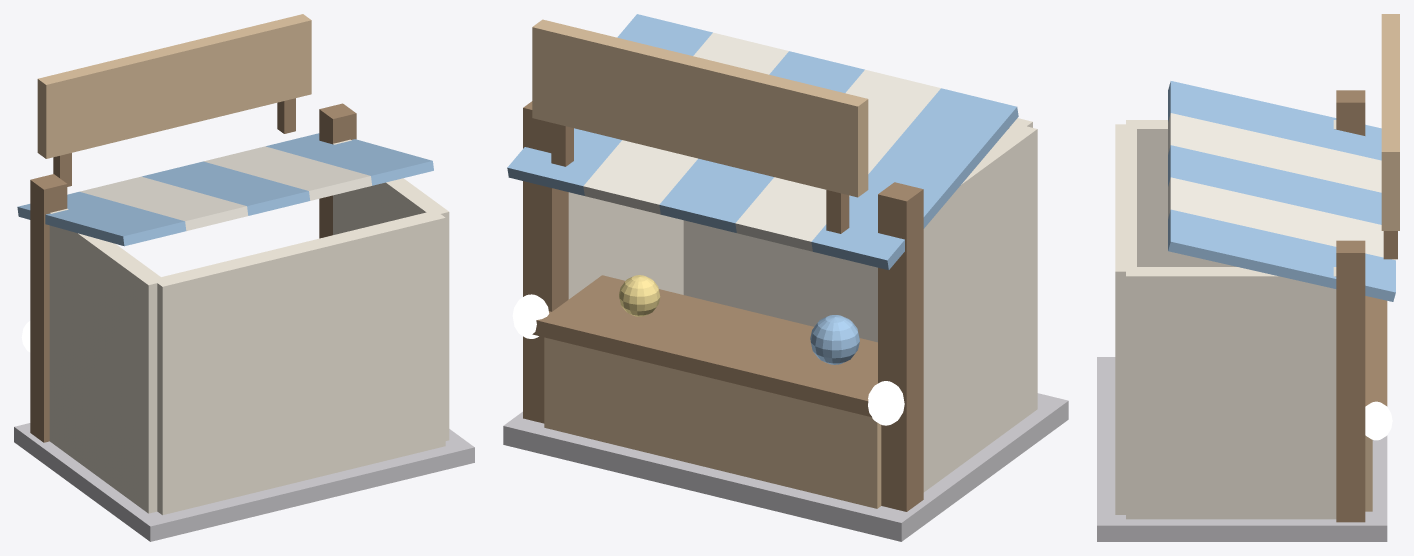
File: ShopStall.glb
3 renders of one model, left to right at view 1: azimuth 30°, elevation 25°; view 2: azimuth 150°, elevation 25°; view 3: azimuth 270°, elevation 25°, orthographic. The views are drawn at different scales.
Parts seen in each view (by area): view 1: ShopStall_6, ShopStall_3, ShopStall_0, ShopStall_2, ShopStall_1, ShopStall_7; view 2: ShopStall_3, ShopStall_6, ShopStall_1, ShopStall_0, ShopStall_2, ShopStall_7, ShopStall_5, ShopStall_4; view 3: ShopStall_6, ShopStall_0, ShopStall_7, ShopStall_1, ShopStall_2, ShopStall_3, ShopStall_5.
Boxes of the visible parts, box(x1,y1,x2,y2) form: ShopStall_6: box(49, 139, 449, 515); ShopStall_3: box(37, 14, 311, 158); ShopStall_0: box(17, 133, 433, 246); ShopStall_2: box(14, 423, 474, 541); ShopStall_1: box(30, 98, 356, 442); ShopStall_7: box(80, 146, 371, 230); ShopStall_3: box(532, 19, 881, 508); ShopStall_6: box(568, 118, 1037, 492); ShopStall_1: box(523, 101, 923, 511); ShopStall_0: box(507, 14, 1018, 364); ShopStall_2: box(503, 393, 1068, 541); ShopStall_7: box(583, 32, 940, 251); ShopStall_5: box(512, 294, 904, 425); ShopStall_4: box(619, 275, 660, 316); ShopStall_6: box(1115, 120, 1336, 519); ShopStall_0: box(1168, 81, 1395, 301); ShopStall_7: box(1168, 113, 1395, 260); ShopStall_1: box(1336, 90, 1397, 522); ShopStall_2: box(1097, 357, 1387, 541); ShopStall_3: box(1365, 14, 1399, 511); ShopStall_5: box(1365, 401, 1392, 440).
Size of the model in its own units: 11 by 11.4 by 8.35.
